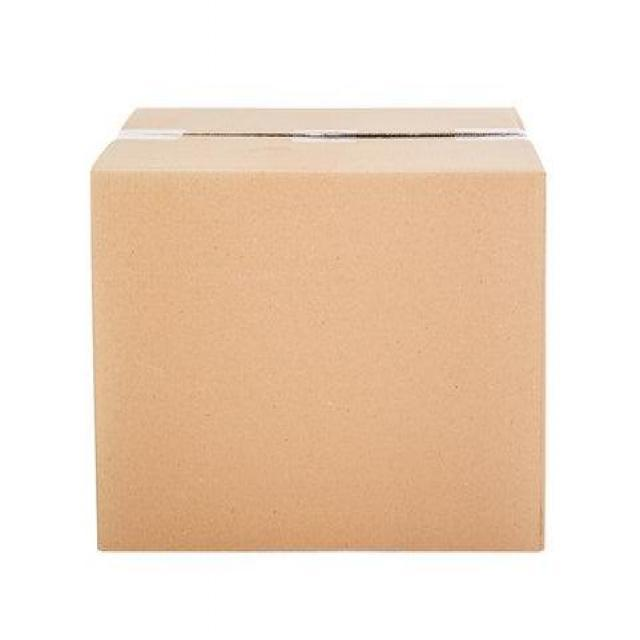box: (82, 89, 557, 565)
